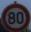Speed Limit -80-: (0, 0, 30, 31)
